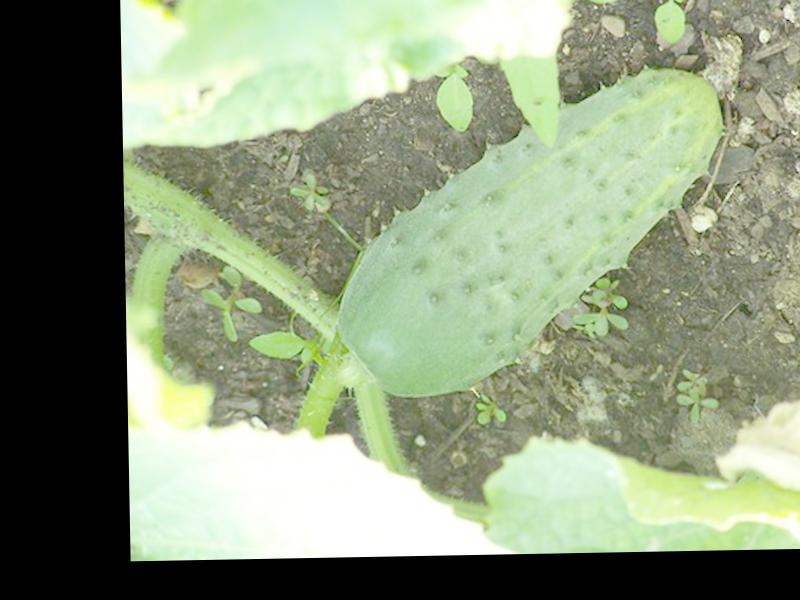Cucumber: (330, 68, 727, 400)
